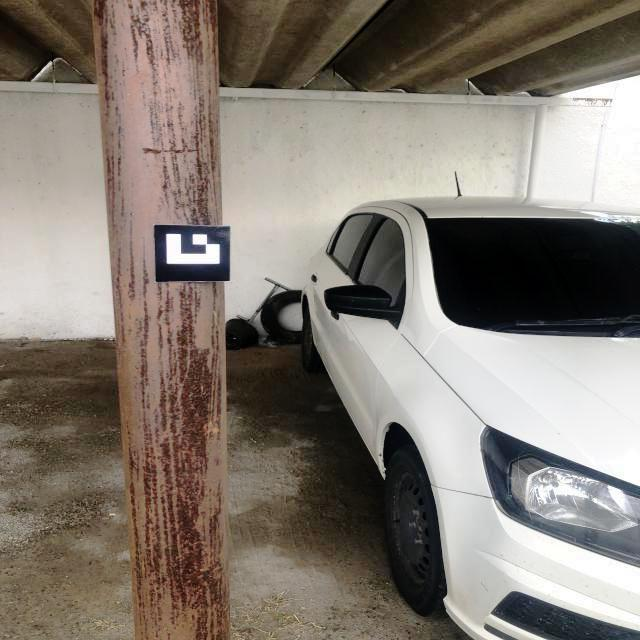Corrosion: (91, 0, 231, 640), (573, 98, 613, 106), (333, 64, 335, 77), (468, 79, 470, 91), (601, 104, 603, 106), (584, 103, 585, 105), (579, 104, 580, 105)
